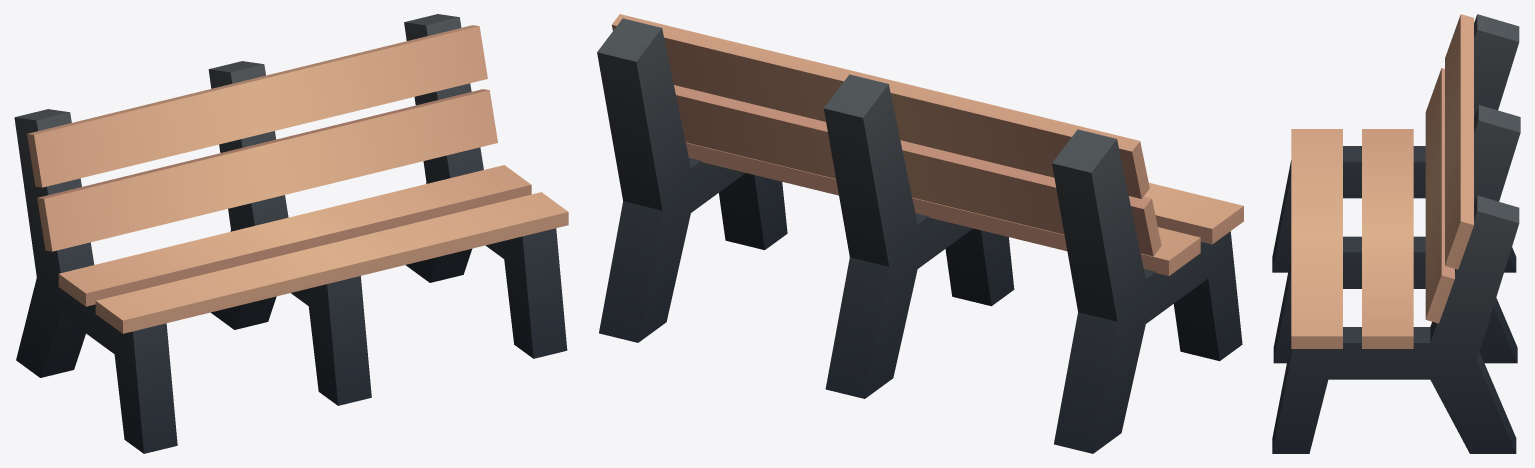
Rendered from Bench_01.fbx.
3 views of the same model, side by side, from view 1: azimuth 30°, elevation 25°; view 2: azimuth 150°, elevation 25°; view 3: azimuth 270°, elevation 25° (orthographic). The views are drawn at different scales.
Parts seen in each view (by area): view 1: Bench_01; view 2: Bench_01; view 3: Bench_01.
Boxes of the visible parts, left/top/right/bottom form: Bench_01: left=14, top=14, right=568, bottom=453; Bench_01: left=597, top=14, right=1243, bottom=453; Bench_01: left=1272, top=14, right=1520, bottom=453.
Bounding box in the file's own units: 200 × 109 × 101.
